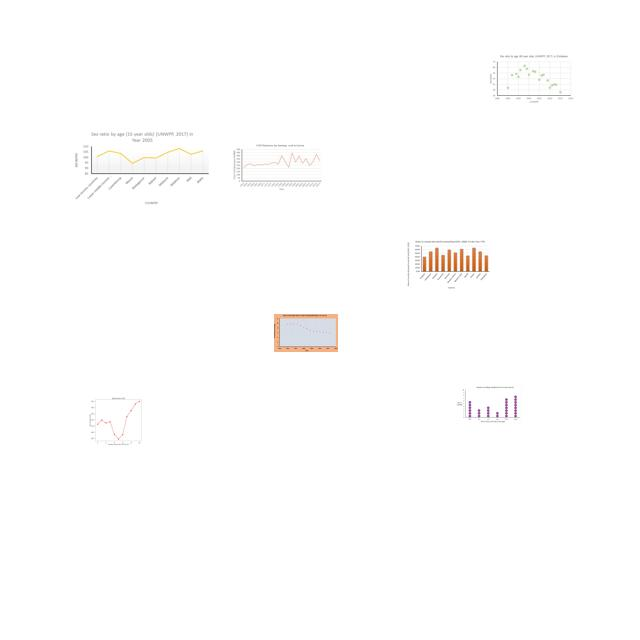Graph: (74, 128, 211, 208), (405, 239, 491, 291), (488, 53, 574, 104), (232, 143, 323, 191), (78, 393, 157, 447), (455, 385, 522, 424), (274, 314, 338, 352)
